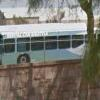Bus: (4, 20, 89, 67)
